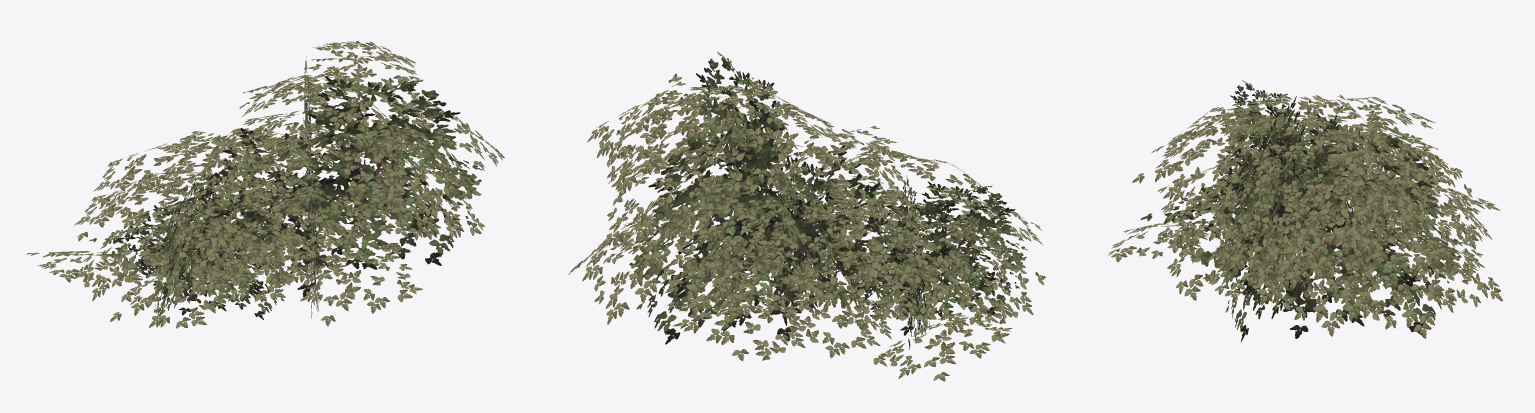
Rendered from decd_saplingclump_lg_l0.fbx.
The picture shows the model from 3 angles, left to right: view 1: azimuth 30°, elevation 25°; view 2: azimuth 150°, elevation 25°; view 3: azimuth 270°, elevation 25°; orthographic projection. The views are drawn at different scales.
Visible parts, largest first — view 1: mesh_node; view 2: mesh_node; view 3: mesh_node.
Boxes of the visible parts, box(x1,y1,x2,y2) form: mesh_node: box(26, 41, 504, 328); mesh_node: box(567, 51, 1045, 381); mesh_node: box(1108, 80, 1502, 341).
Size of the model in its own units: 7.21 by 3.99 by 5.88.
